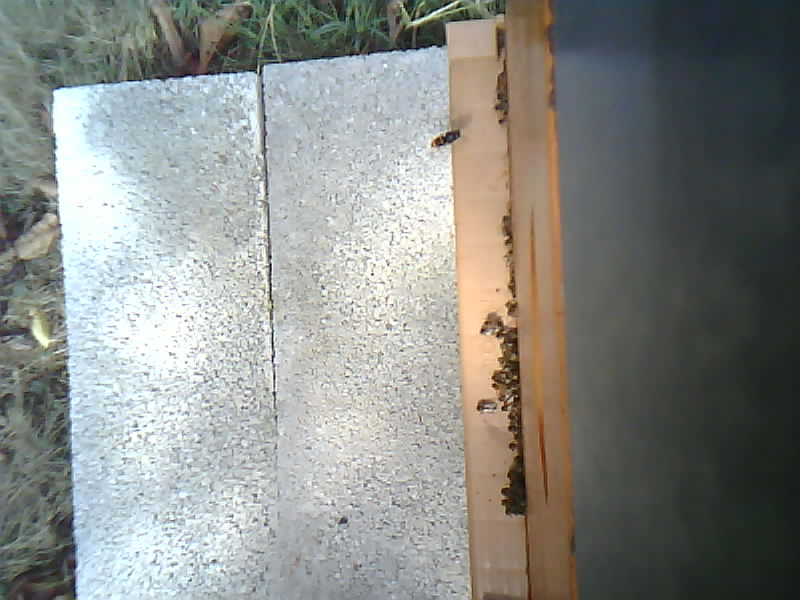bee: (493, 425, 530, 523), (492, 352, 525, 407), (478, 311, 511, 354)
hornet: (431, 125, 460, 153)
